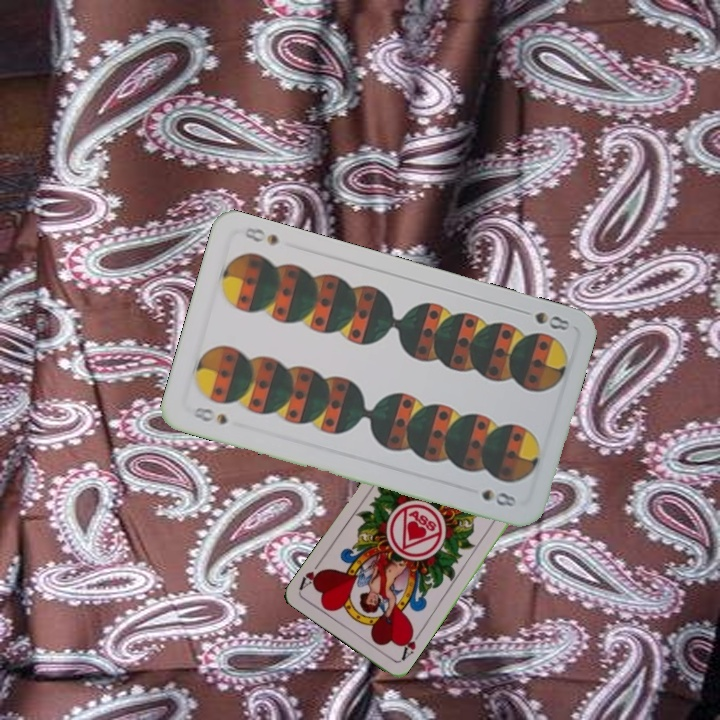HA: (397, 624, 424, 663)
S8: (515, 305, 572, 333), (189, 402, 230, 427)
